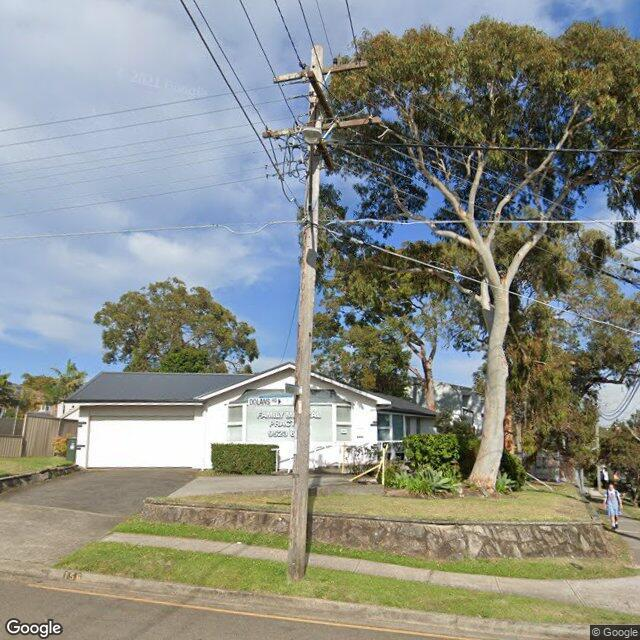crossarm: (263, 114, 382, 141), (272, 56, 369, 84), (306, 71, 333, 123), (316, 141, 334, 173)
streetlight: (302, 127, 322, 213)
timber-pole: (286, 46, 324, 580)
